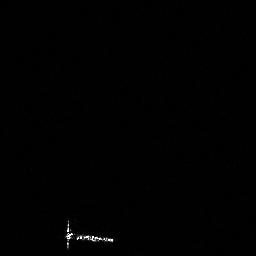ship: (61, 217, 117, 252)
